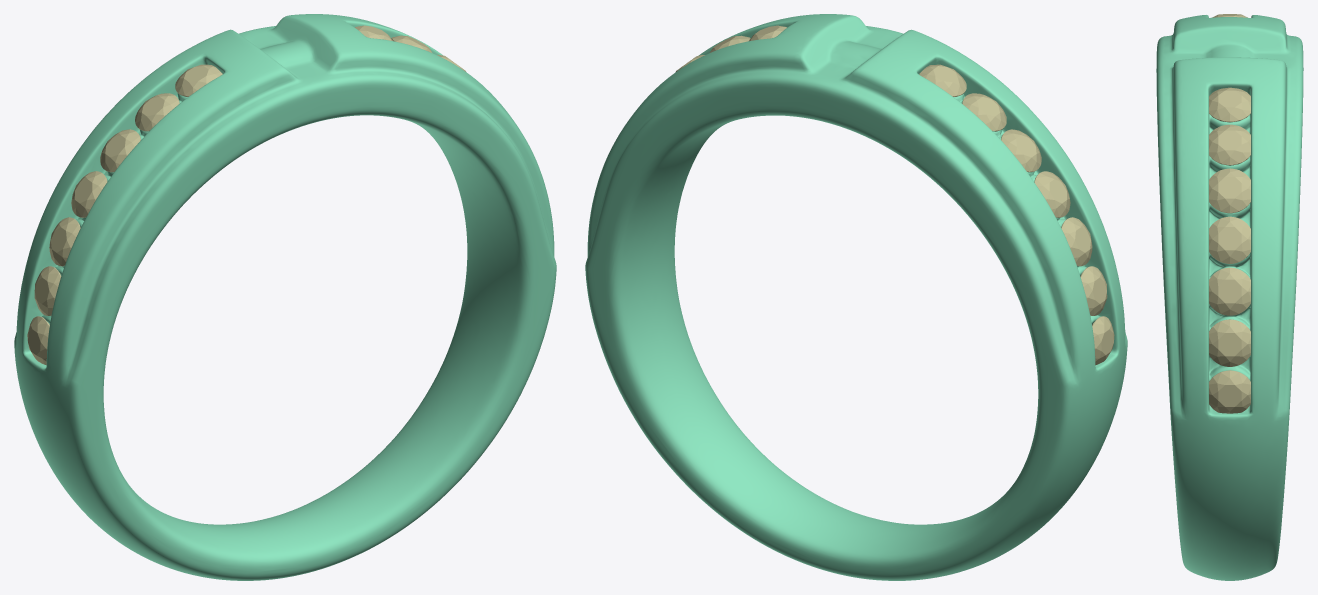
3 renders of one model, left to right at view 1: azimuth 30°, elevation 25°; view 2: azimuth 150°, elevation 25°; view 3: azimuth 270°, elevation 25°, orthographic. The views are drawn at different scales.
Visible parts, largest first — view 1: Metal02, Diamond_Gem.002, Diamond_Gem.003, Diamond_Gem.001, Diamond_Gem.004, Diamond_Gem.005, Diamond_Gem, Diamond_Gem.006; view 2: Metal02, Diamond_Gem.003, Diamond_Gem.002, Diamond_Gem.001, Diamond_Gem.004, Diamond_Gem.005, Diamond_Gem, Diamond_Gem.006; view 3: Metal02, Diamond_Gem.009, Diamond_Gem.008, Diamond_Gem.010, Diamond_Gem.011, Diamond_Gem.007, Diamond_Gem.012, Diamond_Gem.013.
Boxes of the visible parts, left/top/right/bottom form: Metal02: left=14, top=14, right=556, bottom=580; Diamond_Gem.002: left=100, top=129, right=140, bottom=172; Diamond_Gem.003: left=71, top=171, right=107, bottom=217; Diamond_Gem.001: left=135, top=93, right=179, bottom=131; Diamond_Gem.004: left=49, top=217, right=80, bottom=266; Diamond_Gem.005: left=34, top=266, right=61, bottom=315; Diamond_Gem: left=175, top=64, right=222, bottom=96; Diamond_Gem.006: left=27, top=316, right=49, bottom=365; Metal02: left=585, top=14, right=1127, bottom=580; Diamond_Gem.003: left=1034, top=171, right=1070, bottom=217; Diamond_Gem.002: left=1001, top=129, right=1041, bottom=172; Diamond_Gem.001: left=962, top=93, right=1006, bottom=131; Diamond_Gem.004: left=1061, top=217, right=1092, bottom=266; Diamond_Gem.005: left=1080, top=266, right=1107, bottom=315; Diamond_Gem: left=919, top=64, right=966, bottom=96; Diamond_Gem.006: left=1092, top=316, right=1114, bottom=365; Metal02: left=1156, top=15, right=1303, bottom=580; Diamond_Gem.009: left=1209, top=267, right=1250, bottom=315; Diamond_Gem.008: left=1209, top=319, right=1250, bottom=366; Diamond_Gem.010: left=1209, top=216, right=1250, bottom=263; Diamond_Gem.011: left=1209, top=168, right=1250, bottom=213; Diamond_Gem.007: left=1209, top=370, right=1250, bottom=413; Diamond_Gem.012: left=1209, top=124, right=1250, bottom=165; Diamond_Gem.013: left=1209, top=87, right=1250, bottom=122.
Bounding box in the file's own units: 21.69 × 21.79 × 5.66.
